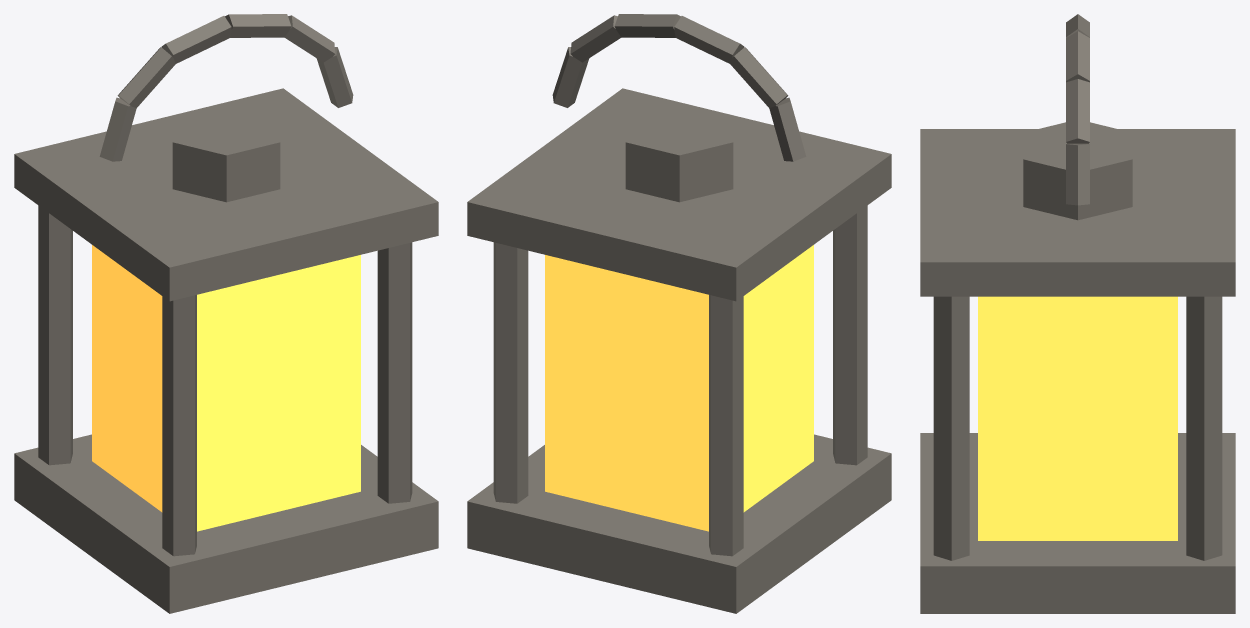
Rendered from lantern_hand.glb.
3 views of the same model, side by side, from view 1: azimuth 30°, elevation 25°; view 2: azimuth 150°, elevation 25°; view 3: azimuth 270°, elevation 25° (orthographic).
Size of the model in its own units: 0.15 by 0.2714 by 0.15.
